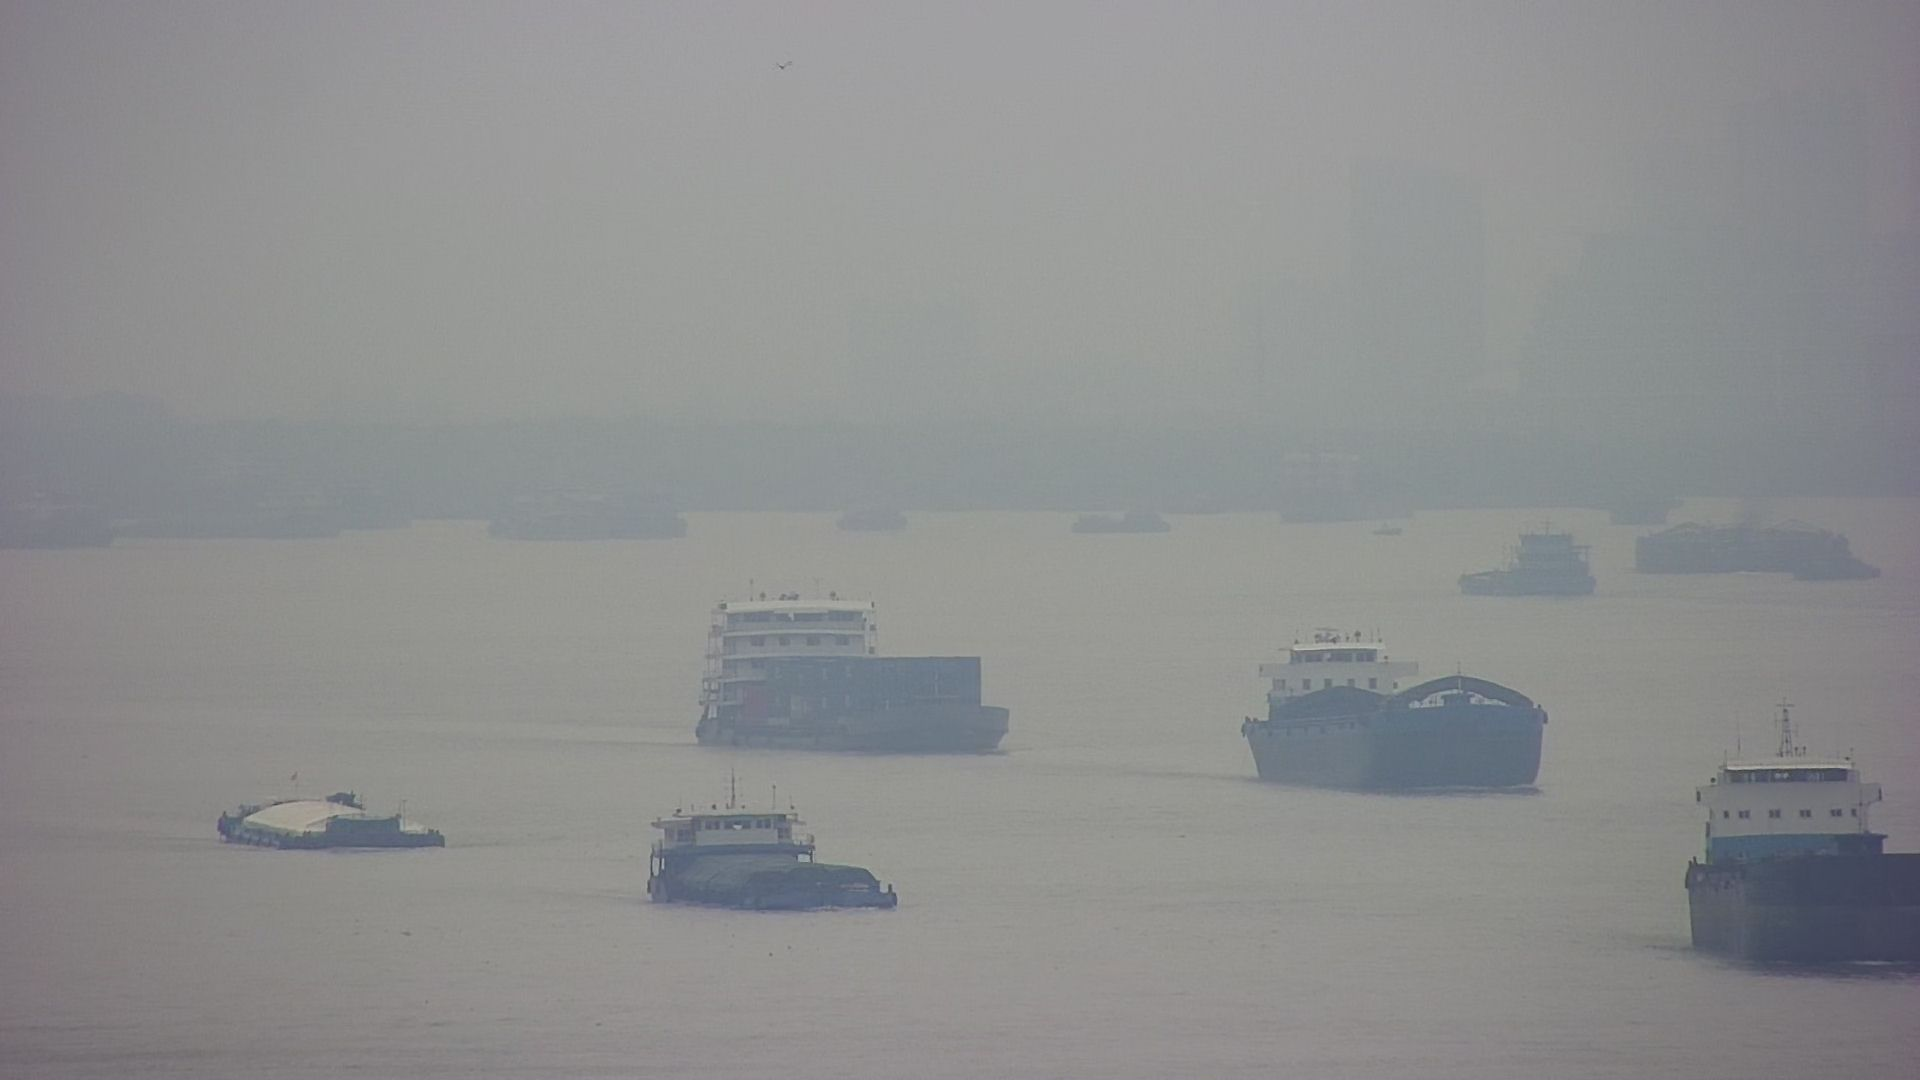ship: (1671, 715, 1920, 976), (692, 582, 1011, 750), (1241, 632, 1544, 796), (646, 789, 898, 911), (216, 778, 444, 856), (1457, 527, 1600, 604)
